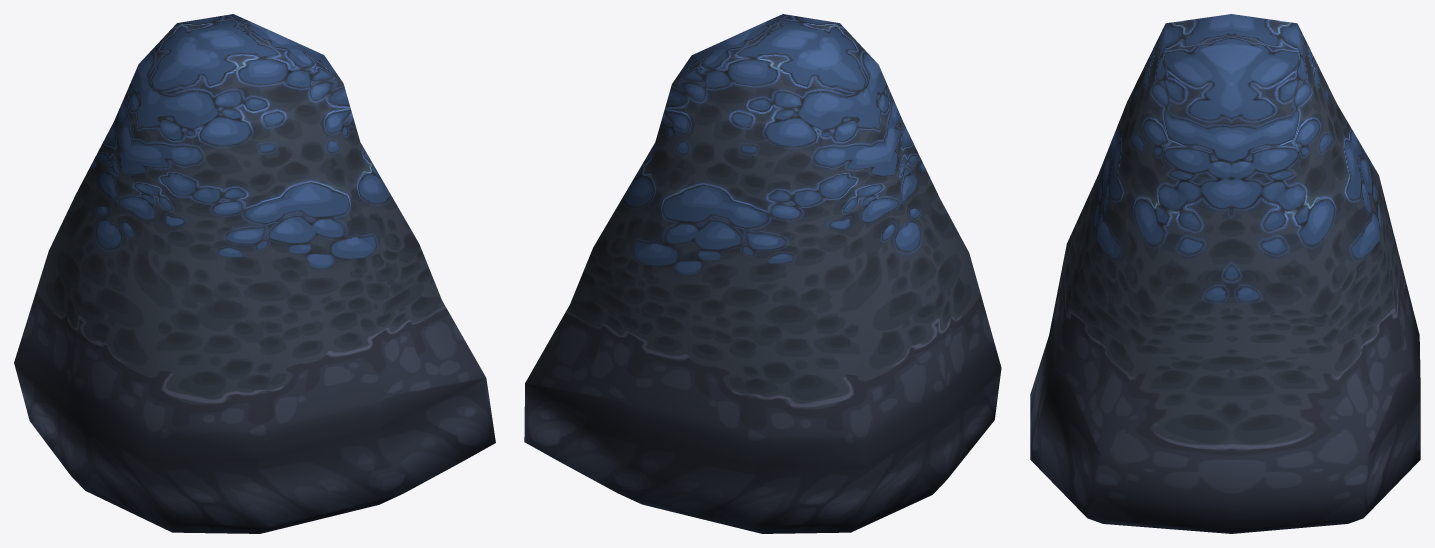
File: Rock_05c.FBX
3 renders of one model, left to right at view 1: azimuth 30°, elevation 25°; view 2: azimuth 150°, elevation 25°; view 3: azimuth 270°, elevation 25°, orthographic.
Parts seen in each view (by area): view 1: Rock_05c; view 2: Rock_05c; view 3: Rock_05c.
Boxes of the visible parts, box(x1,y1,x2,y2) form: Rock_05c: box(14, 14, 495, 533); Rock_05c: box(524, 14, 1001, 533); Rock_05c: box(1030, 14, 1420, 533).
Size of the model in its own units: 81.65 by 86.76 by 73.25.
